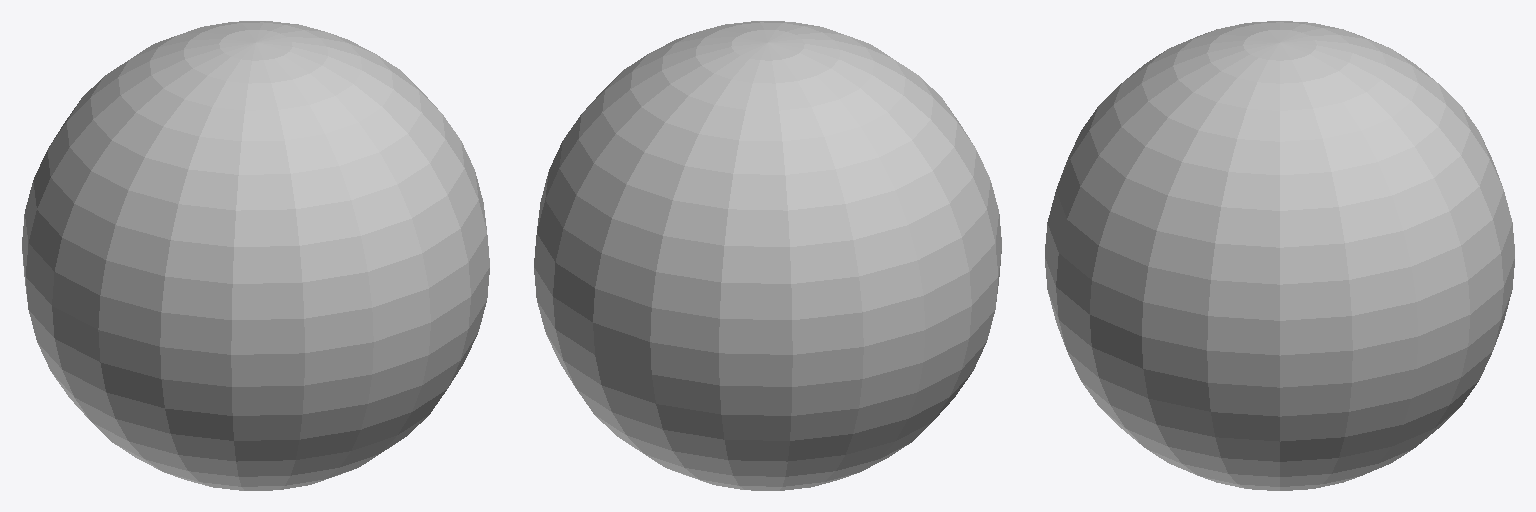
File: Ball.obj
3 renders of one model, left to right at view 1: azimuth 30°, elevation 25°; view 2: azimuth 150°, elevation 25°; view 3: azimuth 270°, elevation 25°, orthographic.
Parts seen in each view (by area): view 1: pSphere1; view 2: pSphere1; view 3: pSphere1.
Boxes of the visible parts, x1=… form: pSphere1: x1=22, y1=21, x2=489, y2=490; pSphere1: x1=534, y1=21, x2=1001, y2=490; pSphere1: x1=1045, y1=21, x2=1514, y2=490.
Bounding box in the file's own units: 0.0799 × 0.0799 × 0.0799.